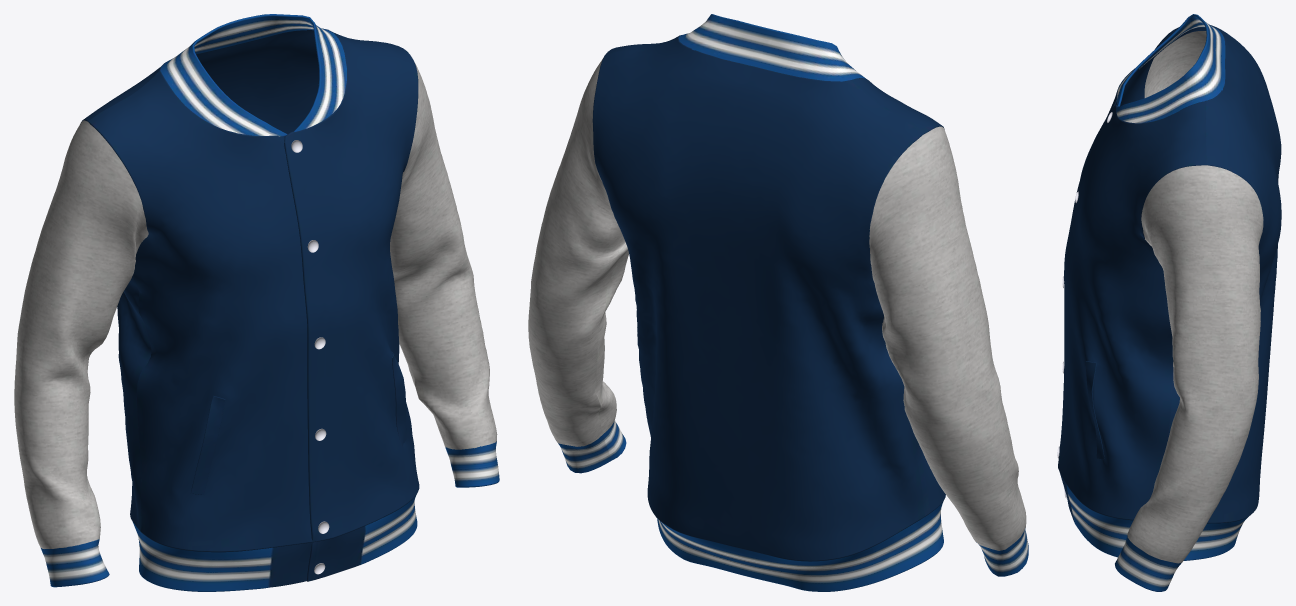
The model's file is chaqueta-varsity.glb.
3 renders of one model, left to right at view 1: azimuth 30°, elevation 25°; view 2: azimuth 150°, elevation 25°; view 3: azimuth 270°, elevation 25°, orthographic. The views are drawn at different scales.
Visible parts, largest first — view 1: Object_2, Object_5; view 2: Object_2; view 3: Object_2.
Boxes of the visible parts, x1=… form: Object_2: x1=14, y1=14, x2=499, y2=591; Object_5: x1=291, y1=140, x2=329, y2=574; Object_2: x1=528, y1=14, x2=1028, y2=591; Object_2: x1=1058, y1=14, x2=1281, y2=591.
Bounding box in the file's own units: 0.6412 × 0.7 × 0.2937.
2 materials, 1 textured.
